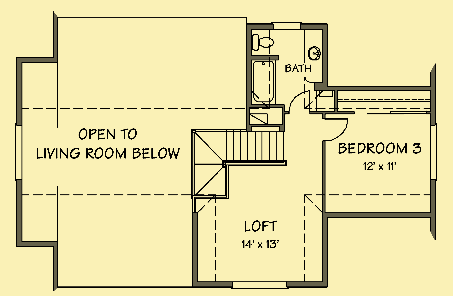door: (318, 116, 351, 143), (287, 89, 313, 117)
large sink: (248, 28, 277, 55)
small sink: (304, 31, 323, 82)
stairs: (187, 126, 291, 202)
tub: (248, 55, 280, 106)
windows: (228, 276, 290, 291), (11, 122, 26, 182), (428, 122, 439, 183)
